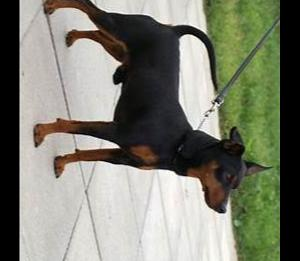dog: (33, 0, 274, 213)
